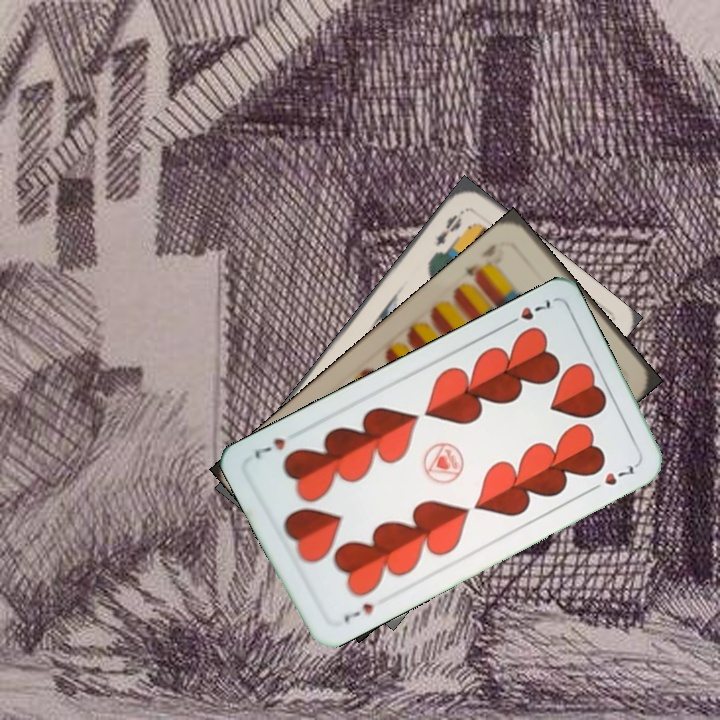E10: (460, 239, 500, 285)
EO: (432, 210, 465, 250)
H7: (501, 294, 553, 330), (340, 599, 376, 625)
